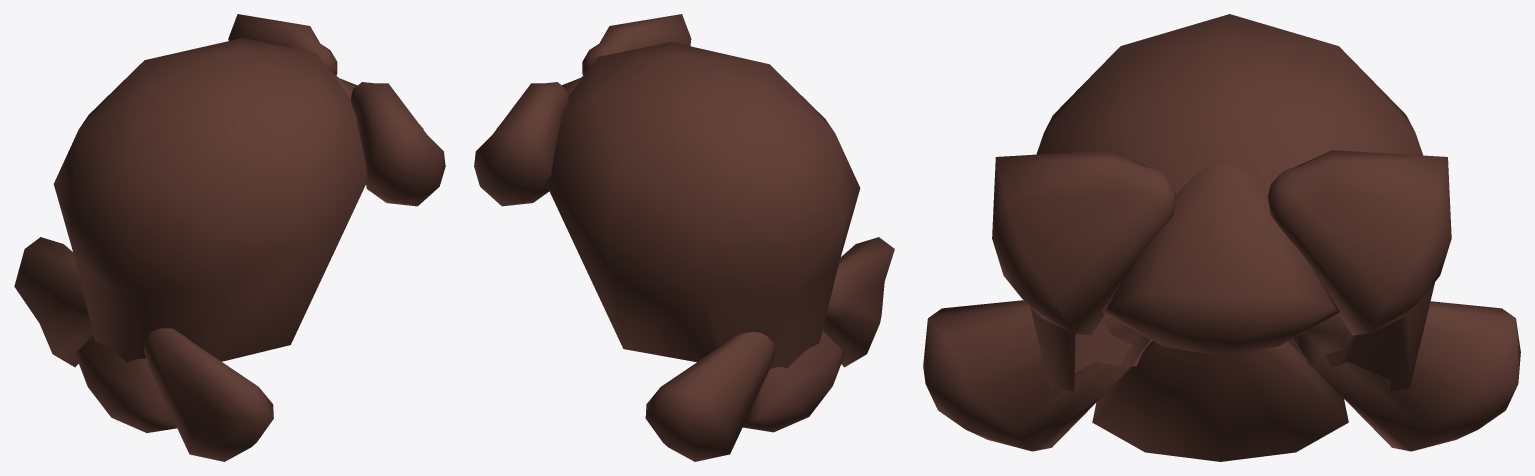
The model's file is HanaHair.glb.
3 views of the same model, side by side, from view 1: azimuth 30°, elevation 25°; view 2: azimuth 150°, elevation 25°; view 3: azimuth 270°, elevation 25° (orthographic). The views are drawn at different scales.
Visible parts, largest first — view 1: HansBob; view 2: HansBob; view 3: HansBob.
Part boxes in pixels (x1,y1,x2,y2): HansBob: (14,14,445,461); HansBob: (474,14,894,461); HansBob: (923,14,1520,461).
Size of the model in its own units: 6.93 by 6.84 by 7.66.
